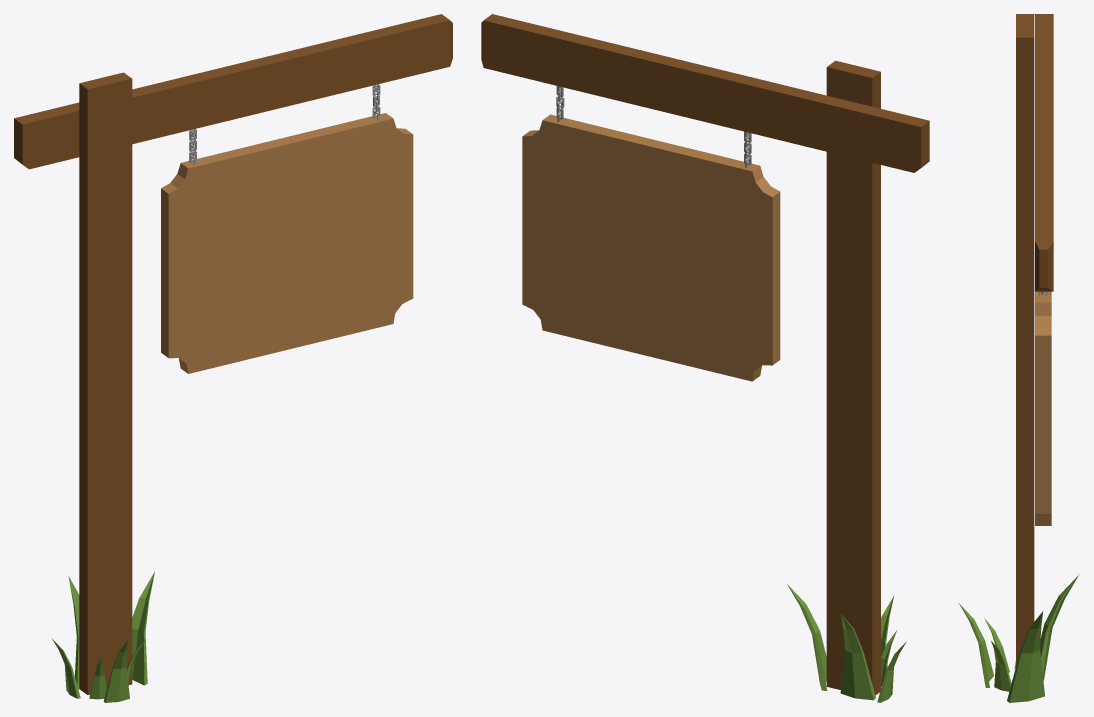
Rendered from Wooden Sign-U8DioeoNvJ.glb.
3 renders of one model, left to right at view 1: azimuth 30°, elevation 25°; view 2: azimuth 150°, elevation 25°; view 3: azimuth 270°, elevation 25°, orthographic. The views are drawn at different scales.
Parts seen in each view (by area): view 1: Wooden Sign-U8DioeoNvJ; view 2: Wooden Sign-U8DioeoNvJ; view 3: Wooden Sign-U8DioeoNvJ.
Boxes of the visible parts, box(x1,y1,x2,y2) form: Wooden Sign-U8DioeoNvJ: box(14, 14, 452, 702); Wooden Sign-U8DioeoNvJ: box(481, 14, 929, 702); Wooden Sign-U8DioeoNvJ: box(958, 14, 1079, 702).
Bounding box in the file's own units: 1.55 × 2.08 × 0.3487.
